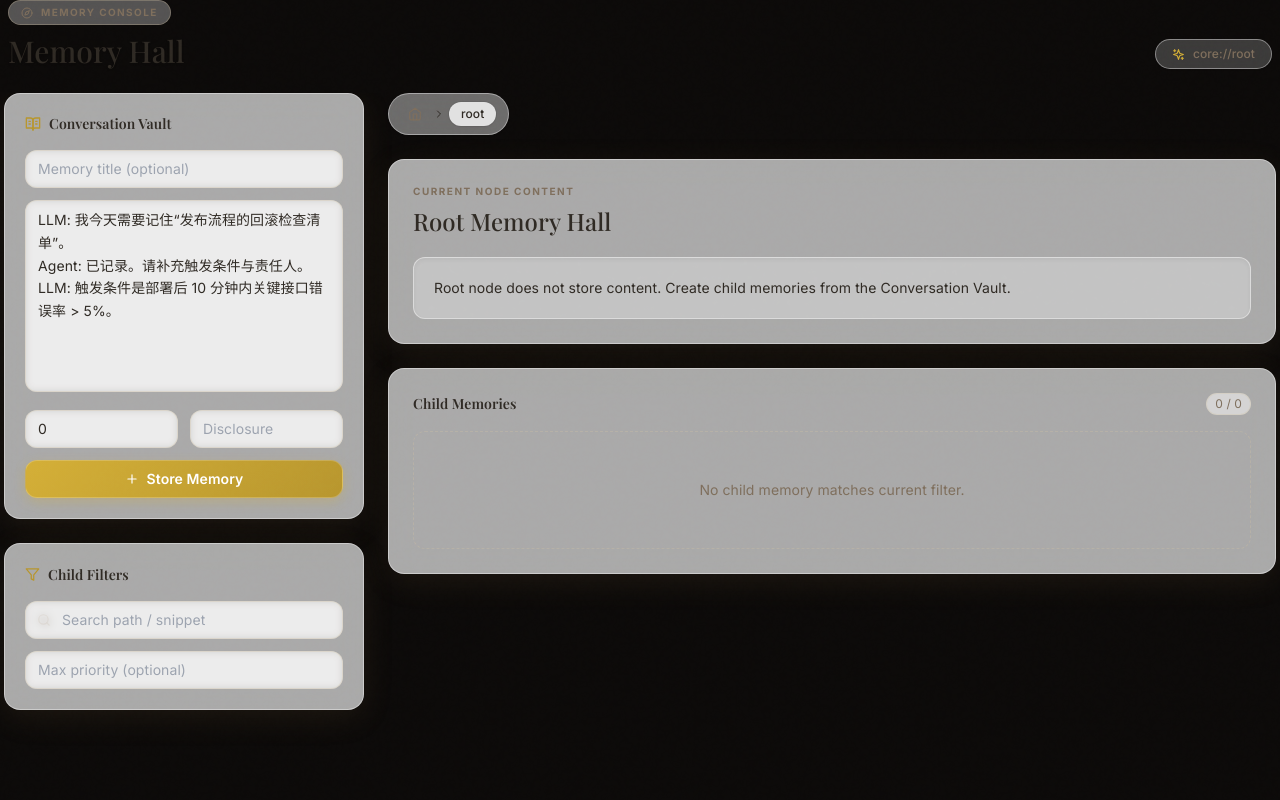
Test case: MemoryBrowser › does not navigate and shows guard feedback when create returns created=false
Click the button "Store Memory" at (184, 479), box [25, 460, 343, 498]
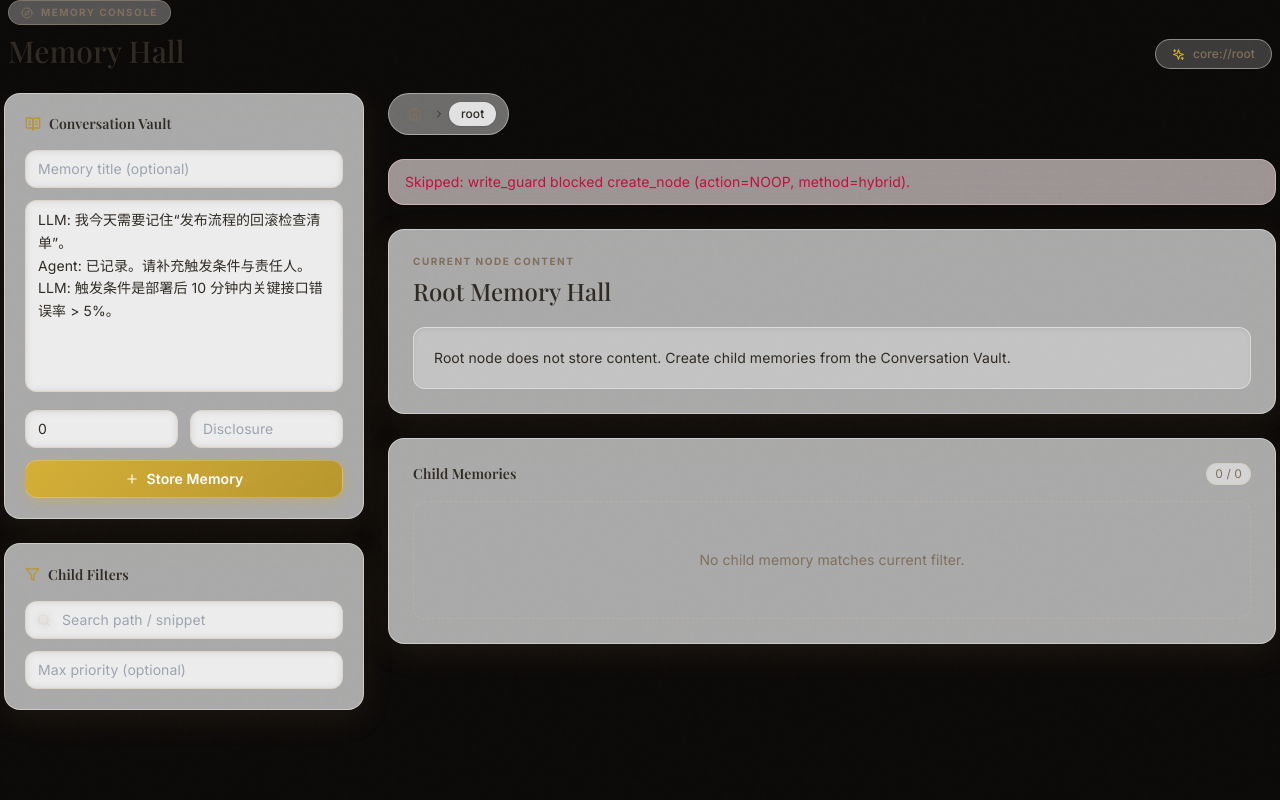
Result: the text "Skipped: write_guard blocked create_node" is shown at [405, 173, 910, 190]
